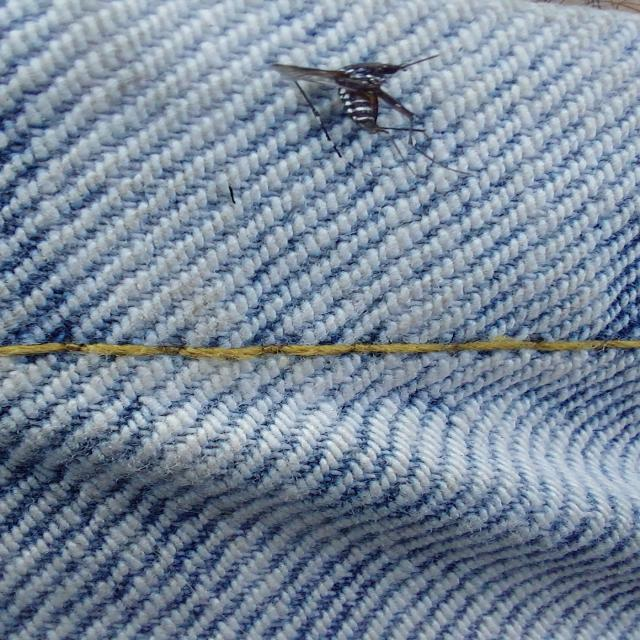albopictus: (246, 47, 452, 133)
